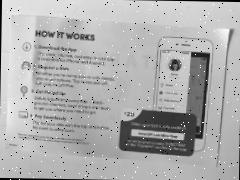paper: (0, 2, 240, 180)
